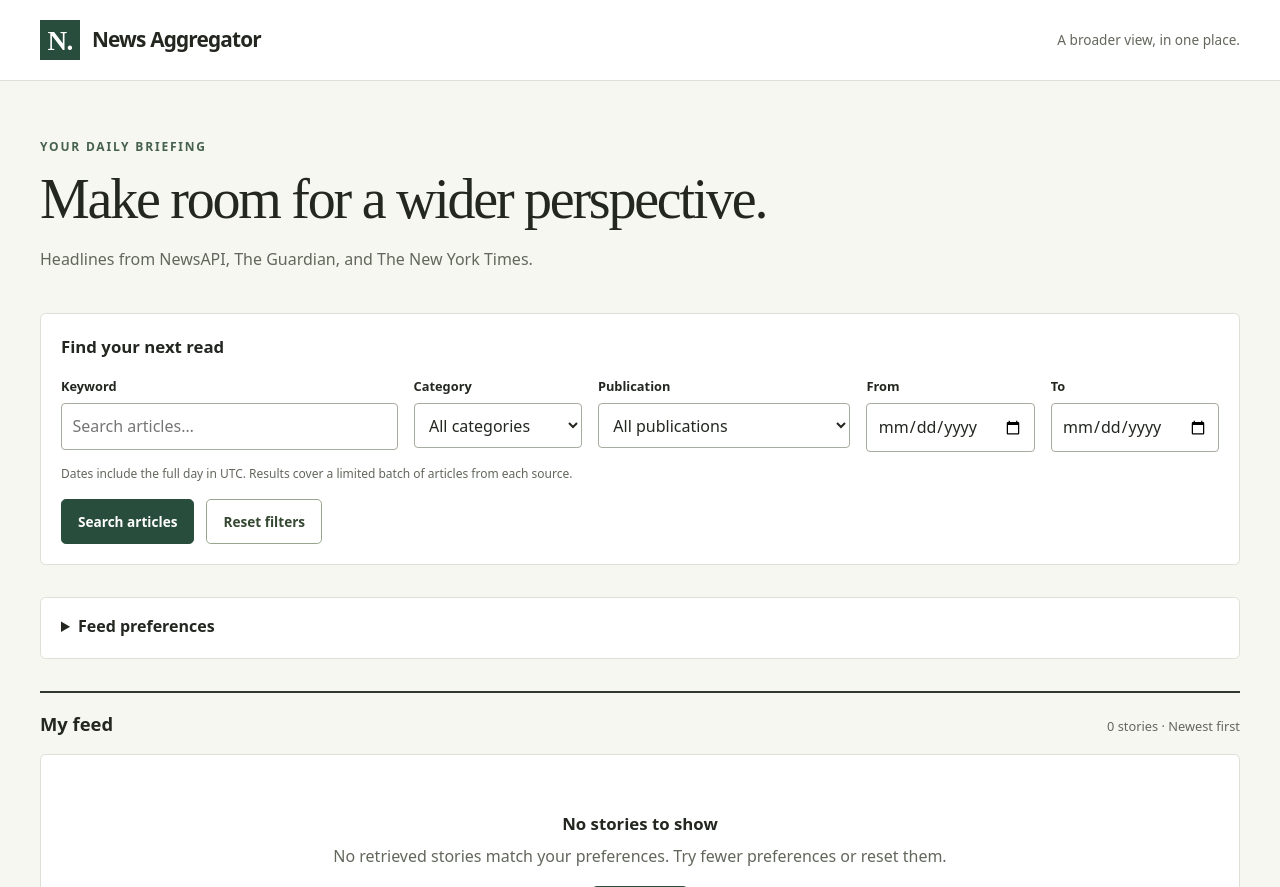
Test case: retains saved publication selections when the catalog no longer contains them
Expected: the text "No retrieved stories match your preferences" is shown, 333,845 -> 947,867
Click the heading "Feed preferences". click: x=146, y=626
box: 78,615 -> 215,637
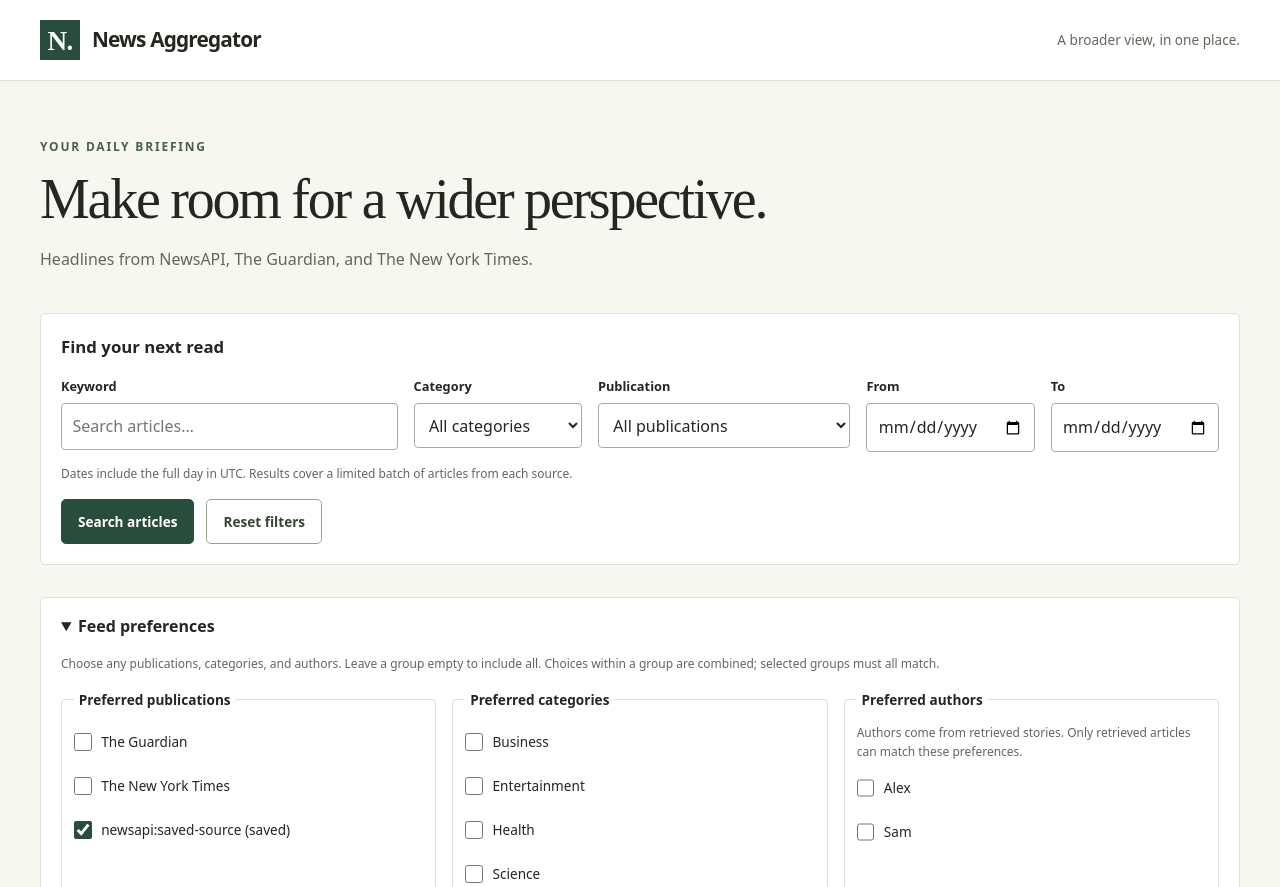
Expected: the checkbox labelled "newsapi:saved-source (saved)" is checked, 74,821 -> 92,839
